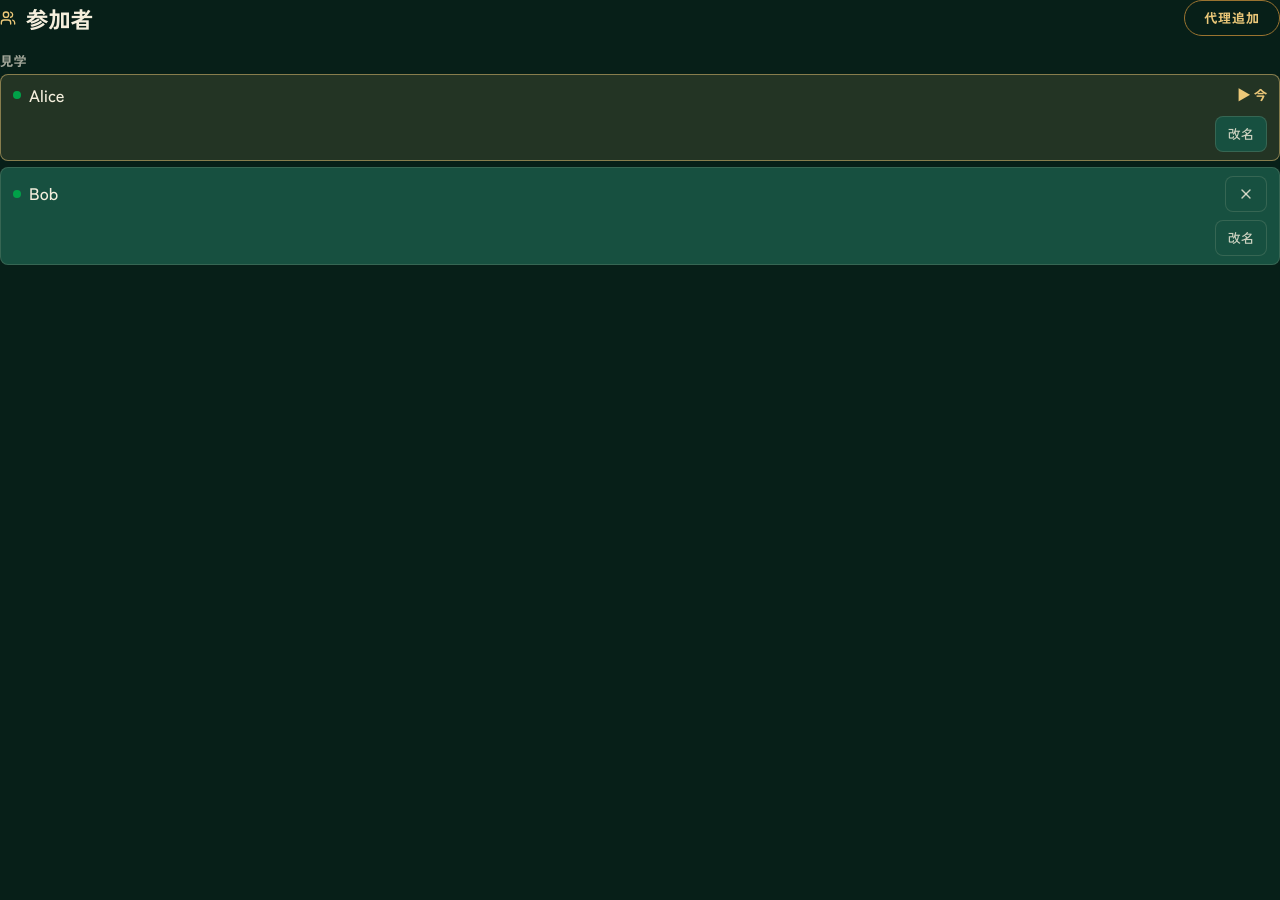
it: RosterPanel 退出操作 › 確認ダイアログに他の参加者への影響が出る（共有ルーム）
Click the button named "Bob を退出させる". click: x=1246, y=194
box: top-left (1225, 176), bottom-right (1267, 212)
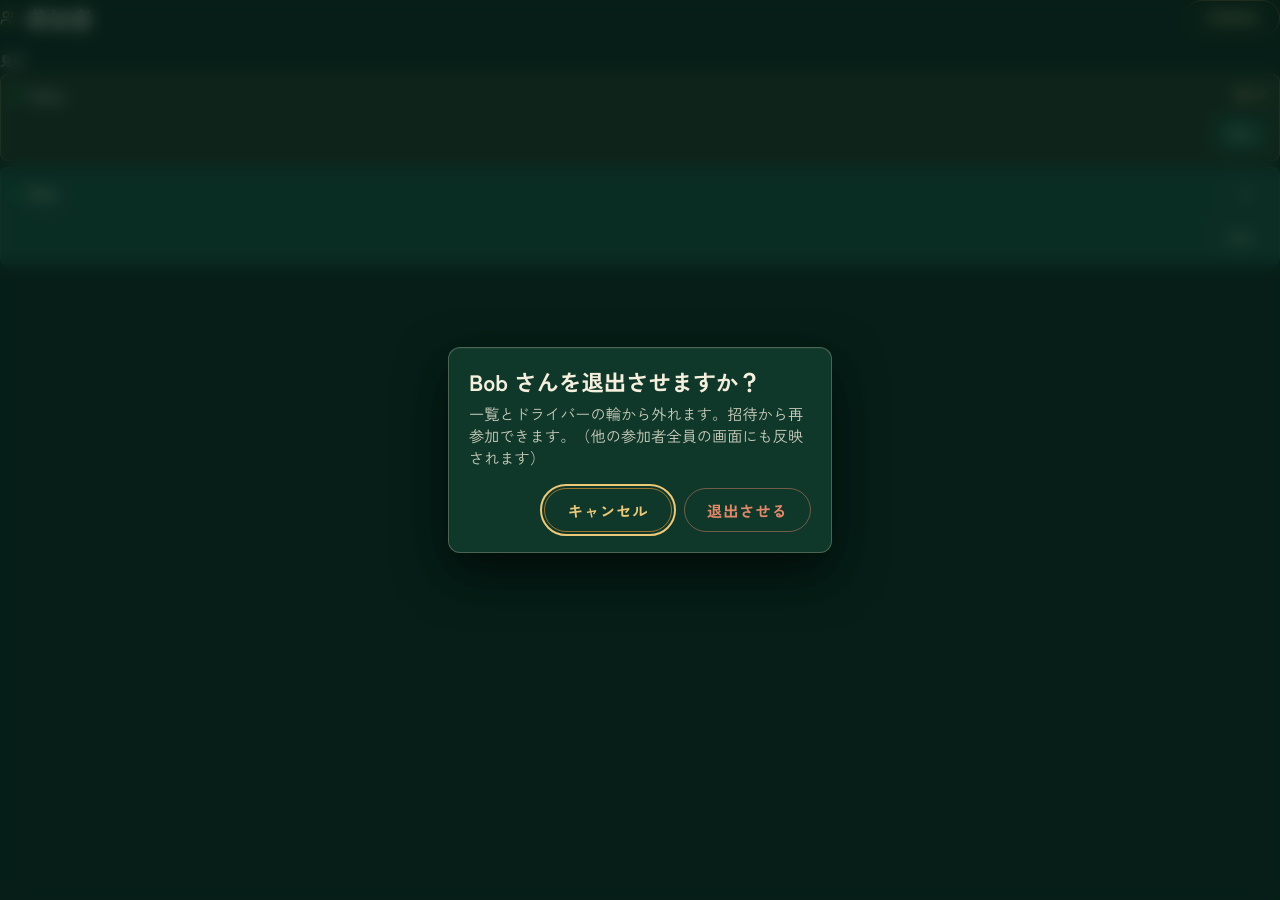
Check: the dialog shows "他の参加者", box top-left (469, 402), bottom-right (803, 468)
